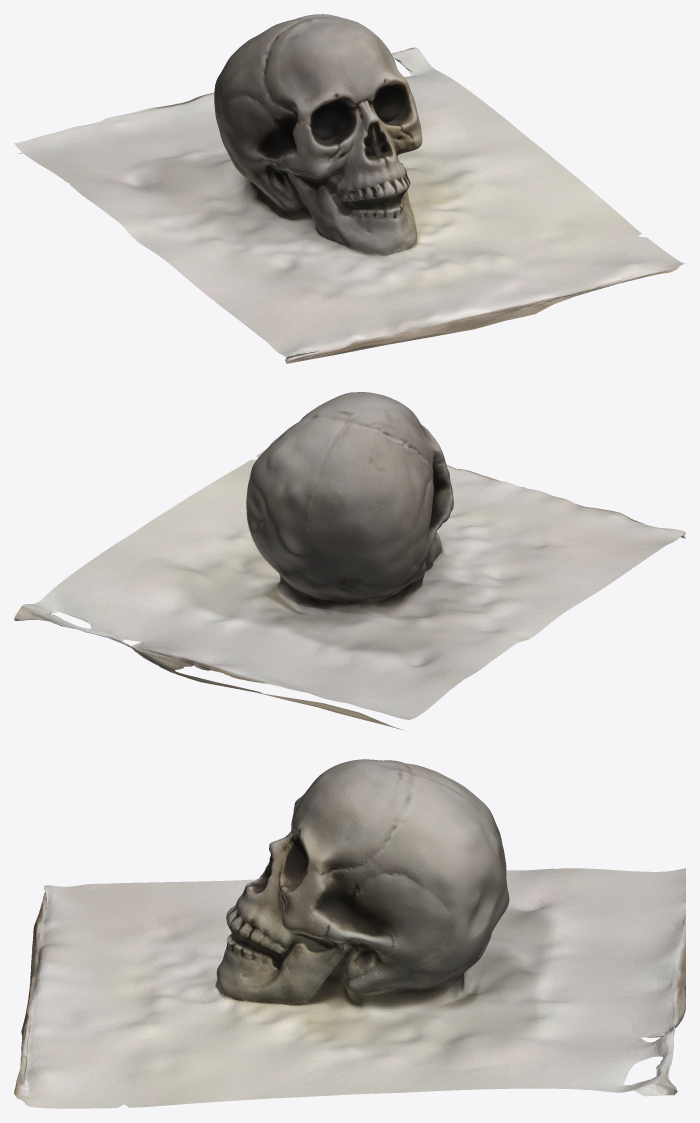
File: Dalcivania_caveira.fbx
3 views of the same model, one above another, from view 1: azimuth 30°, elevation 25°; view 2: azimuth 150°, elevation 25°; view 3: azimuth 270°, elevation 25° (orthographic). The views are drawn at different scales.
Visible parts, largest first — view 1: meshes[0]; view 2: meshes[0]; view 3: meshes[0].
Part boxes in pixels (left/top/right/bottom): meshes[0]: left=14, top=14, right=685, bottom=363; meshes[0]: left=14, top=392, right=685, bottom=730; meshes[0]: left=14, top=759, right=685, bottom=1108.
Size of the model in its own units: 3.78 by 1.83 by 4.77.
Materials: 1 (1 with a texture image).
